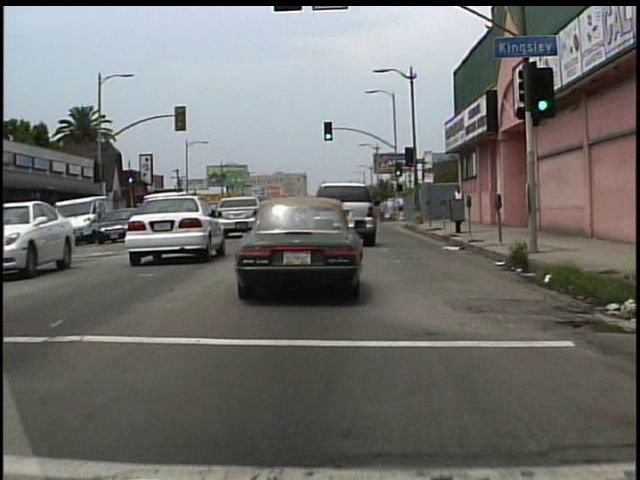person: (451, 185, 467, 227)
